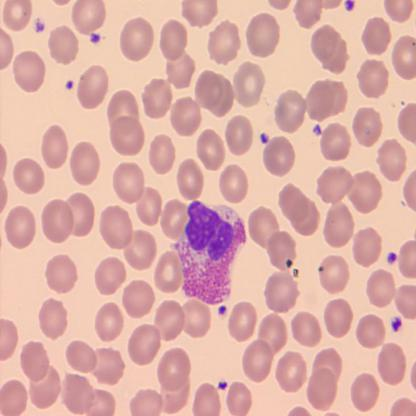Eosinophil: (174, 198, 250, 314)
